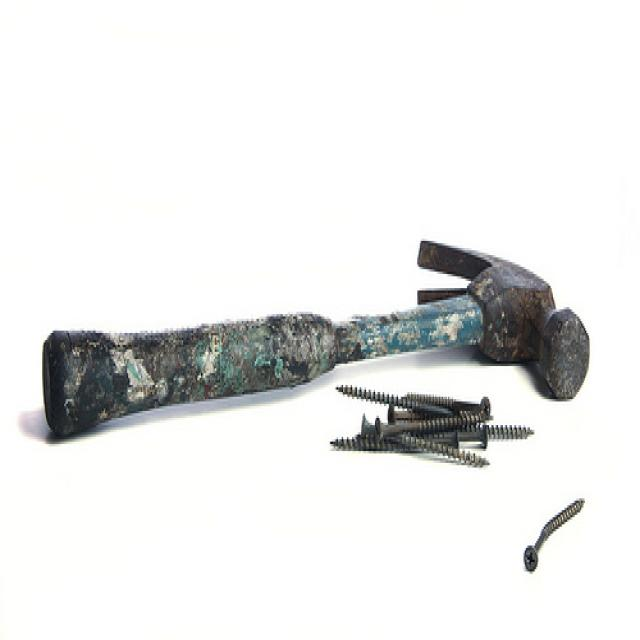hammer: (24, 147, 592, 435)
